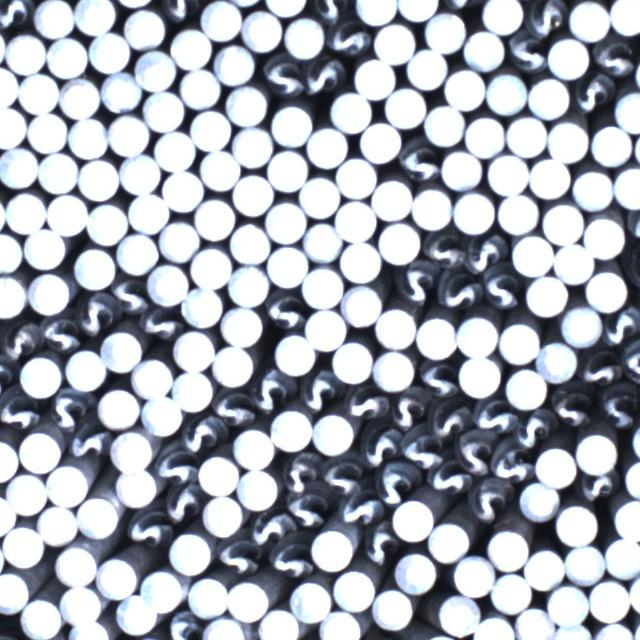tool: (288, 577, 332, 621), (452, 189, 496, 232), (527, 154, 570, 198), (160, 167, 203, 211), (310, 527, 353, 571), (61, 583, 104, 627), (526, 273, 569, 316), (76, 495, 119, 538), (551, 241, 595, 283), (584, 213, 625, 258), (463, 28, 505, 71), (424, 10, 466, 53), (271, 407, 313, 450), (333, 567, 375, 610), (19, 596, 61, 639), (213, 343, 255, 386), (179, 285, 223, 326), (6, 468, 46, 513), (536, 340, 578, 382), (283, 16, 325, 58), (373, 20, 415, 62), (312, 411, 354, 453), (458, 354, 500, 396), (54, 542, 96, 584), (456, 314, 498, 356), (185, 575, 227, 617), (511, 232, 553, 274), (19, 354, 61, 396), (391, 499, 433, 541), (556, 503, 598, 545), (546, 581, 588, 623), (547, 35, 588, 78), (486, 71, 527, 114), (485, 152, 526, 195), (410, 186, 451, 229), (1, 524, 42, 567), (352, 56, 395, 97), (571, 166, 612, 209), (22, 227, 65, 268), (265, 244, 306, 287), (305, 306, 346, 349), (541, 201, 584, 242), (95, 558, 138, 599), (589, 577, 630, 620), (169, 532, 212, 573), (77, 156, 118, 199), (134, 49, 175, 92), (219, 305, 263, 345), (231, 124, 271, 168), (426, 521, 470, 561), (505, 114, 546, 156), (440, 147, 482, 188), (330, 89, 371, 131), (528, 75, 569, 117), (443, 67, 484, 109), (241, 9, 282, 51), (29, 272, 70, 314), (504, 368, 546, 409), (330, 340, 371, 382), (499, 320, 540, 362), (232, 426, 273, 468), (170, 27, 212, 68), (147, 262, 188, 304), (547, 121, 589, 162), (64, 350, 105, 392), (224, 84, 266, 125), (486, 527, 528, 568), (114, 595, 157, 635), (567, 0, 610, 40), (464, 112, 504, 155), (202, 494, 242, 537), (591, 124, 631, 167), (358, 122, 401, 162), (265, 148, 305, 191), (198, 147, 238, 190), (342, 282, 381, 326), (4, 191, 45, 232), (73, 245, 114, 286), (307, 125, 348, 166), (180, 67, 221, 108), (226, 579, 267, 620), (108, 115, 149, 156), (227, 223, 268, 264), (19, 430, 60, 471), (119, 153, 160, 194), (576, 431, 617, 472), (114, 466, 155, 507), (89, 31, 129, 73), (28, 110, 68, 152), (336, 155, 376, 197), (416, 316, 456, 358), (236, 468, 278, 508), (214, 43, 256, 83), (85, 202, 125, 244), (189, 245, 229, 287), (385, 85, 425, 127), (524, 548, 564, 590), (144, 568, 184, 610), (497, 191, 537, 233), (144, 90, 184, 132), (491, 571, 531, 613), (274, 332, 314, 374), (192, 198, 234, 238), (271, 105, 313, 145), (117, 231, 156, 274), (47, 36, 87, 77), (37, 150, 77, 191), (437, 593, 477, 634), (423, 105, 463, 146), (171, 372, 212, 412), (560, 305, 601, 345), (407, 48, 447, 89), (301, 266, 342, 306), (373, 350, 414, 390), (129, 192, 169, 233), (380, 221, 421, 261), (5, 33, 45, 74), (337, 241, 378, 281), (533, 445, 573, 486), (47, 193, 88, 233), (564, 543, 604, 584), (452, 556, 493, 596), (188, 110, 229, 150), (396, 553, 437, 593), (197, 453, 237, 494), (157, 221, 197, 262), (46, 465, 87, 505), (124, 8, 166, 47), (101, 71, 140, 113), (103, 328, 142, 370), (585, 271, 625, 311), (130, 357, 170, 397), (374, 307, 414, 347), (373, 588, 413, 628), (263, 203, 303, 243), (110, 428, 150, 468), (200, 0, 241, 39), (97, 389, 138, 428), (150, 131, 191, 170), (372, 178, 411, 219), (519, 480, 558, 521), (172, 331, 213, 370), (301, 222, 340, 263), (300, 174, 338, 216), (232, 170, 270, 212), (18, 72, 57, 112), (58, 77, 98, 116), (36, 504, 76, 543), (68, 116, 107, 156), (228, 264, 266, 304), (0, 147, 37, 188), (32, 0, 73, 37), (603, 537, 640, 578), (335, 202, 374, 240), (74, 0, 115, 34), (481, 0, 523, 33), (144, 397, 181, 434), (0, 568, 30, 613), (258, 608, 300, 640), (318, 610, 362, 640), (515, 607, 553, 640), (613, 164, 640, 207), (472, 613, 515, 640), (0, 108, 27, 150), (203, 614, 244, 640), (614, 90, 640, 131), (0, 275, 26, 316), (610, 0, 640, 34), (614, 498, 640, 537), (355, 0, 396, 24), (68, 616, 108, 640), (0, 230, 22, 271), (396, 0, 438, 21), (593, 620, 634, 640), (551, 621, 592, 640), (0, 439, 18, 479), (0, 66, 17, 108)
tool_b: (46, 385, 94, 433), (60, 422, 113, 464), (397, 136, 444, 183), (158, 483, 204, 529), (123, 505, 172, 548), (76, 287, 118, 337), (269, 534, 313, 581), (548, 382, 591, 430), (0, 315, 43, 362), (177, 406, 219, 454), (0, 387, 43, 433), (491, 445, 538, 487), (589, 35, 636, 77), (155, 437, 195, 486), (503, 30, 548, 73), (133, 301, 181, 341), (375, 463, 418, 507), (597, 382, 640, 426), (470, 477, 509, 525), (403, 427, 444, 472), (426, 458, 473, 497), (358, 427, 401, 469), (263, 57, 304, 101), (455, 432, 495, 477), (251, 370, 296, 410), (319, 457, 365, 496), (477, 268, 520, 309), (244, 511, 291, 548), (599, 304, 640, 346), (327, 21, 373, 58), (112, 274, 152, 316), (577, 350, 619, 390), (267, 293, 306, 336), (396, 261, 434, 305), (523, 0, 567, 38), (333, 490, 382, 524), (357, 524, 396, 566), (416, 357, 456, 397), (41, 313, 82, 352), (422, 233, 465, 270), (436, 271, 479, 308), (345, 386, 390, 421), (289, 491, 327, 532), (467, 236, 506, 275), (473, 397, 513, 435), (575, 72, 615, 110), (306, 58, 343, 99), (302, 367, 338, 409), (280, 455, 317, 495), (214, 390, 254, 427), (217, 537, 254, 576), (432, 401, 469, 439), (388, 390, 424, 429), (516, 410, 549, 450), (580, 470, 622, 501), (155, 0, 204, 23), (167, 609, 202, 640), (306, 0, 352, 23), (622, 332, 640, 384), (0, 355, 18, 396)
